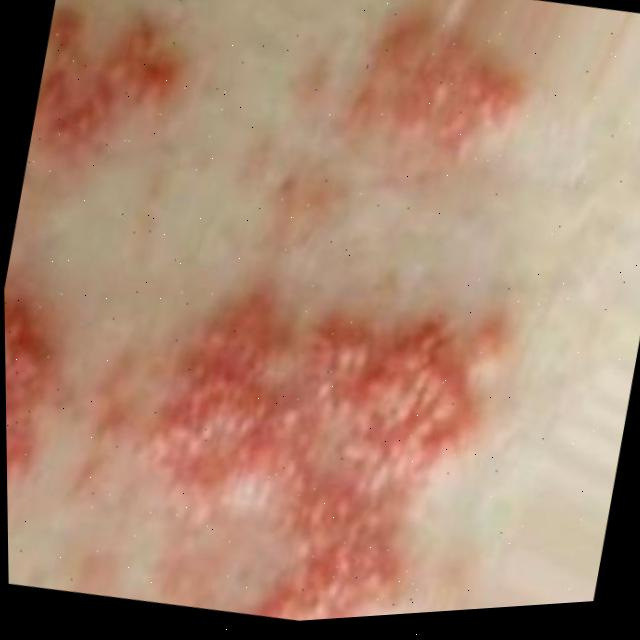Shingles: (4, 210, 526, 640), (329, 0, 544, 210), (28, 2, 195, 170)
